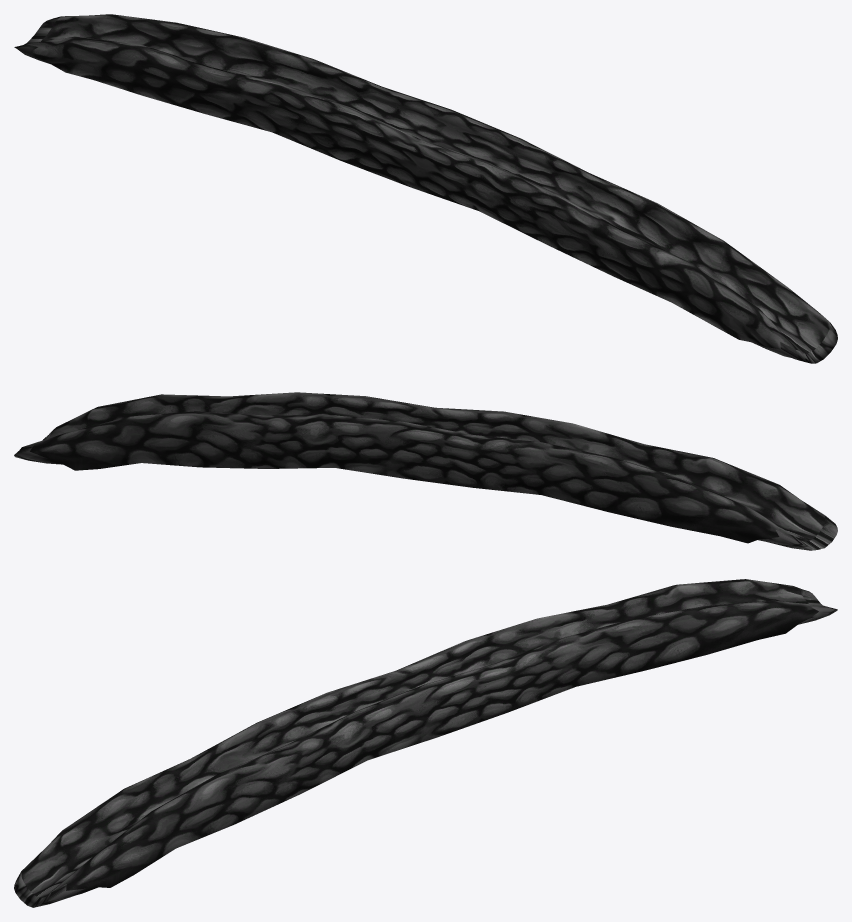
Rendered from BridgeShape5.dae.
3 views of the same model, one above another, from view 1: azimuth 30°, elevation 25°; view 2: azimuth 210°, elevation 25°; view 3: azimuth 270°, elevation 25° (orthographic). The views are drawn at different scales.
Visible parts, largest first — view 1: Bridge5; view 2: Bridge5; view 3: Bridge5.
Part boxes in pixels (left/top/right/bottom): Bridge5: left=14, top=14, right=837, bottom=363; Bridge5: left=14, top=392, right=837, bottom=550; Bridge5: left=14, top=579, right=837, bottom=907.
Bounding box in the file's own units: 79.27 × 27.9 × 133.
